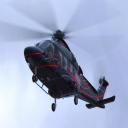helicopter: (13, 10, 117, 117)
